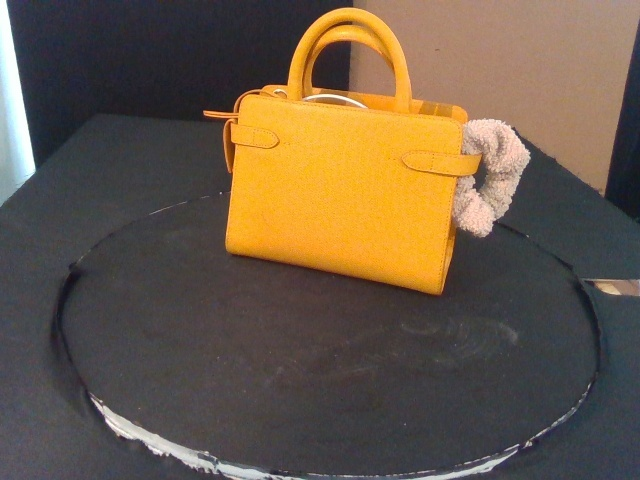bag: (225, 6, 468, 297)
